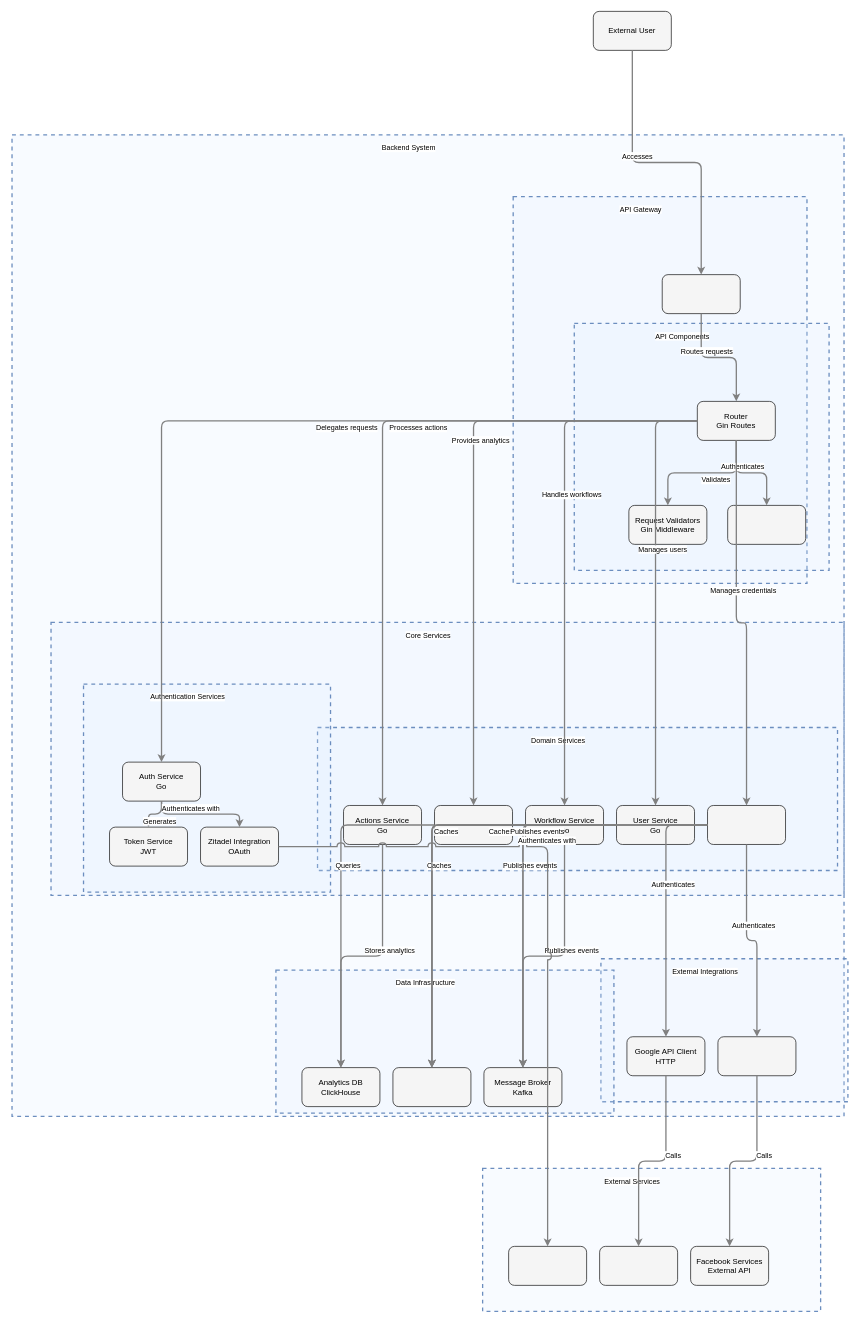
Image size: 859x1323. Some labels were removed from this diagram. Here are the shapes that lost their labels. From the top down, the box of each, then its label:
(662, 274, 740, 314): API Server Gin Framework
(727, 505, 806, 544): Auth Middleware JWT
(434, 805, 513, 844): Dashboard Service Go
(707, 805, 786, 844): Credential Service Go
(717, 1036, 796, 1076): Facebook API Client HTTP
(392, 1067, 471, 1107): Cache Store Redis
(508, 1246, 587, 1285): Zitadel Identity Provider
(599, 1246, 678, 1285): Google Services External API
